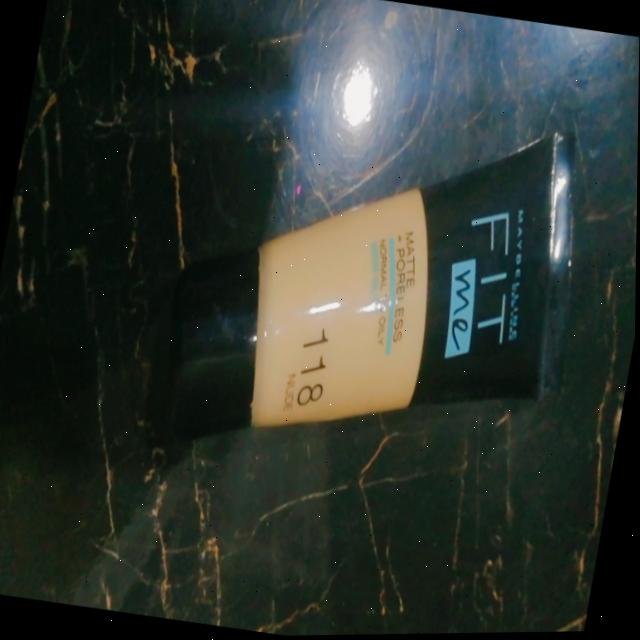bb cream: (128, 64, 612, 539)
